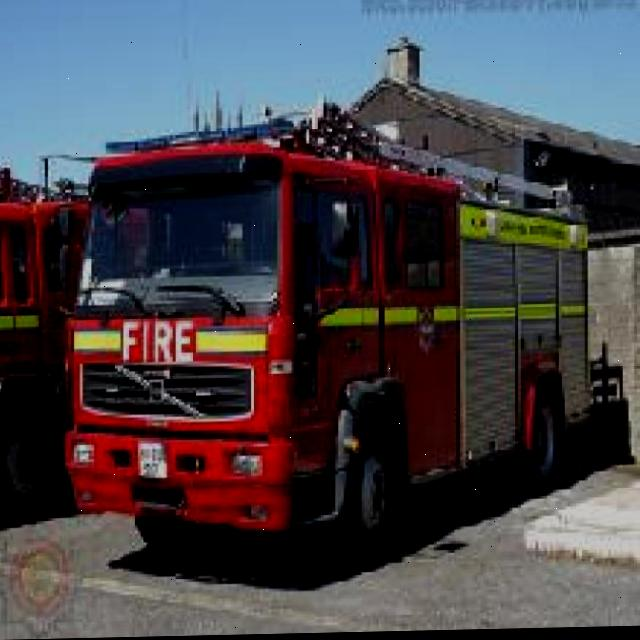emergency: (69, 82, 589, 582), (0, 171, 358, 528)
